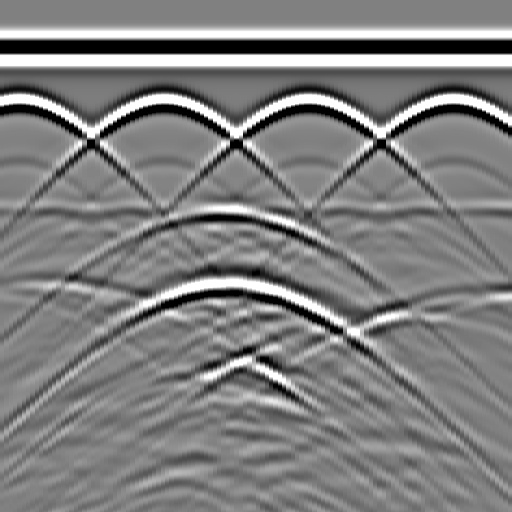grout_surface: (1, 195, 512, 225)
rebar: (142, 83, 182, 123), (286, 83, 326, 123), (430, 83, 470, 123)
rock_surface: (1, 283, 511, 379)
water_void: (191, 187, 251, 227)
